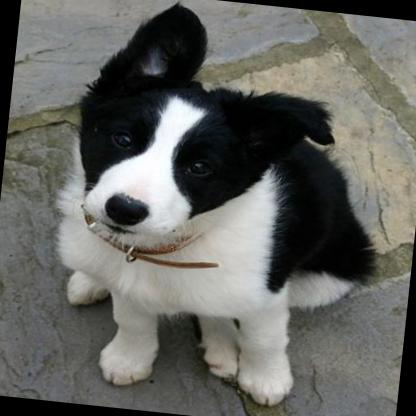Border_collie: (34, 0, 400, 416)
